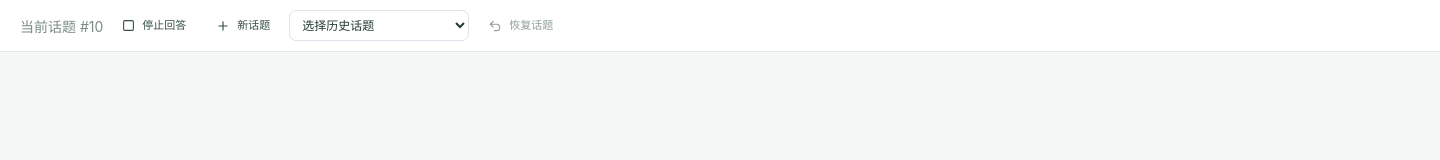
conflicting page refreshes current state and explains that the action was not applied
Click the button "停止回答".
click(154, 26)  # box [111,10,197,41]
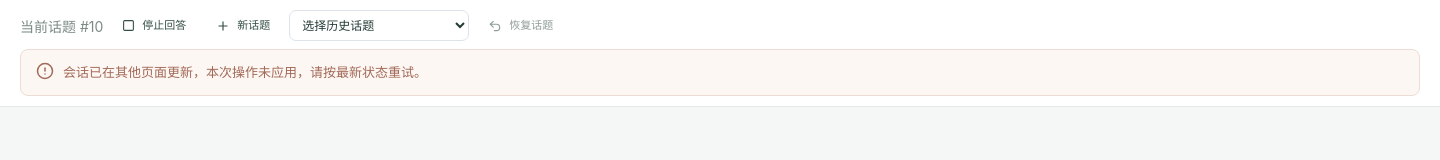
Check: the message shows "会话已在其他页面更新", box [63,64,427,80]
